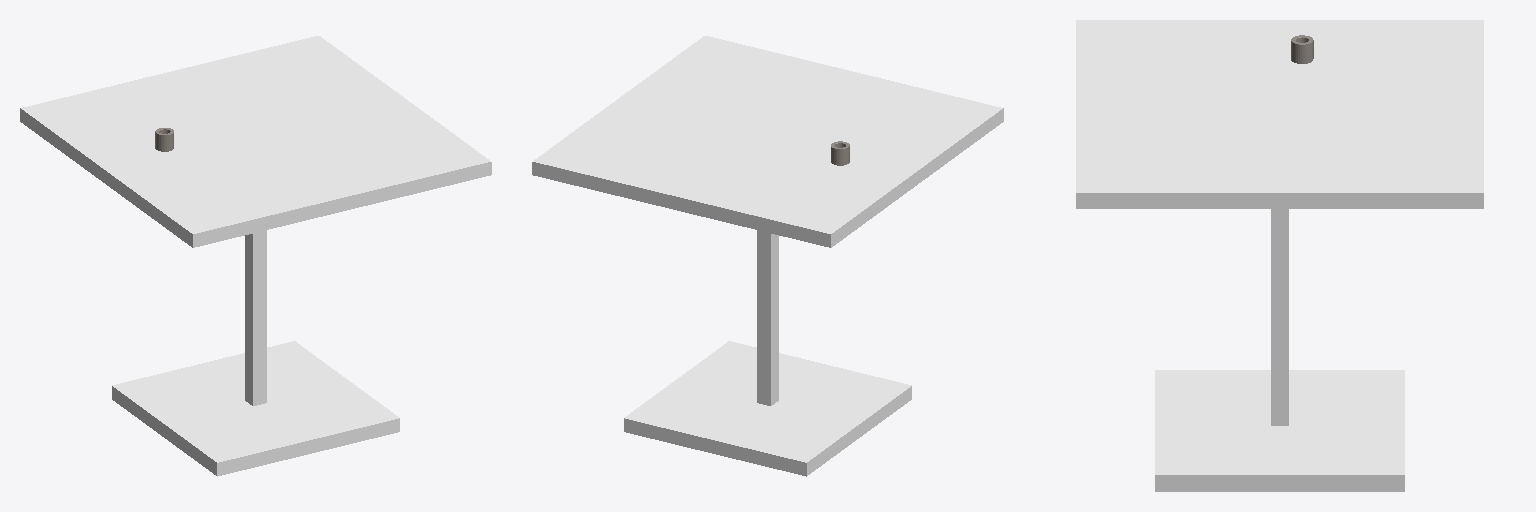
robot.urdf — table:
<robot name="table">
  
  <link name="world" />
  
  <joint name="world_table" type="fixed">
    
    <origin xyz="0.05 0.0 0.0" rpy="0 0 0"></origin>
    <parent link="world"></parent>
    <child link="table"></child>
    <axis xyz="1 0 0"></axis>
  </joint>

  <link
    name="table">
    <inertial>
      <origin
        xyz="-1.3868E-18 2.64389972581082E-17 0.58188"
        rpy="0 0 0" />
      <mass
        value="10" />
      <inertia
        ixx="1.75770116451796"
        ixy="-3.6166485463331E-16"
        ixz="3.53511831725085E-17"
        iyy="1.75770116451796"
        iyz="-1.00754931171109E-16"
        izz="1.12058228384598" />
    </inertial>
    <visual>
      <origin
        xyz="0 0 0"
        rpy="1.5707963267949 0 0" />
      <geometry>
        <mesh
          filename="package://sawyer_gazebo_env/models/table/table.STL" />
      </geometry>
      <material
        name="">
        <color
          rgba="1 1 1 1" />
      </material>
    </visual>
    <collision>
      <origin
        xyz="0 0 0"
        rpy="1.5707963267949 0 0" />
      <geometry>
        <mesh
          filename="package://sawyer_gazebo_env/models/table/table.STL" />
      </geometry>
    </collision>
  </link>
  <gazebo reference="table">
      <material>Gazebo/Black</material>
      <mu1>1000</mu1>
      <mu2>1000</mu2>
  </gazebo>

<joint name="table_hole" type="fixed">
    <origin xyz="-0.25 0.05 0.82" rpy="0 0 0"></origin>
    <parent link="table"></parent>
    <child link="hole"></child>
    <axis xyz="0 0 1"></axis>
</joint>

<link name="hole">
    <inertial>
      <origin
        xyz="-4.3735E-11 -1.19539999999987E-05 0.021582"
        rpy="0 0 0" />
      <mass
        value="0.60699" />
      <inertia
        ixx="0.000216777802721257"
        ixy="-5.25084112893969E-13"
        ixz="-8.24312727996716E-14"
        iyy="0.000216902661958809"
        iyz="1.75405875164843E-08"
        izz="0.000214289433618235" />
    </inertial>
    <visual>
      <origin
        xyz="0 0 0"
        rpy="1.5707963267949 0 0" />
      <geometry>
        <mesh
          filename="package://sawyer_gazebo_env/models/hole/hole.STL" />
      </geometry>
      <material
        name="">
        <color
          rgba="0.64706 0.61961 0.58824 1" />
      </material>
    </visual>
    <collision>
      <origin
        xyz="0 0 0"
        rpy="1.5707963267949 0 0" />
      <geometry>
        <mesh
          filename="package://sawyer_gazebo_env/models/hole/hole.STL" />
      </geometry>
    </collision>
  </link>
  <gazebo reference="hole">
      <material>Gazebo/Grey</material>
      <mu1>1000</mu1>
      <mu2>1000</mu2>
  </gazebo>
</robot>

--- Facts derived from the render (not from the file) ---
Views: 3 orthographic renders of the robot side by side, from view 1: azimuth 30°, elevation 25°; view 2: azimuth 150°, elevation 25°; view 3: azimuth 270°, elevation 25°.
Model table with 3 links and 2 joints (2 fixed), rooted at world, posed every joint at zero.
Visible links, largest first — view 1: table; view 2: table; view 3: table, hole.
Boxes of the visible links, bbox=[...] form: table: bbox=[20, 36, 491, 476]; table: bbox=[532, 36, 1003, 476]; table: bbox=[1076, 20, 1483, 491]; hole: bbox=[1291, 35, 1313, 63].
Bounding box of the posed robot: 0.913 × 0.913 × 0.868 m (x, y, z).
2 mesh visuals loaded from 2 distinct referenced files (2 binary STL).